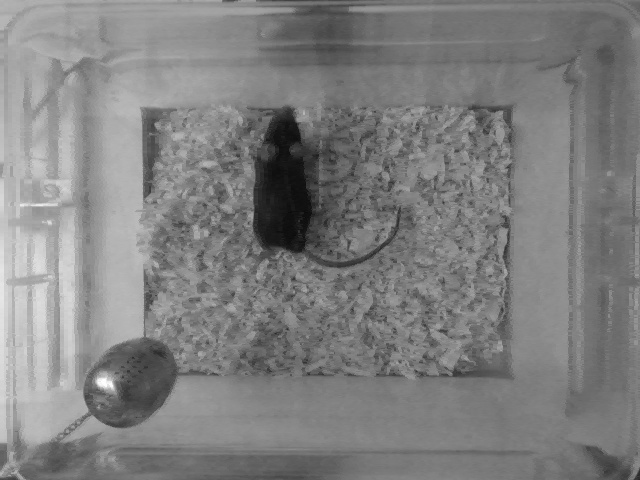mice: (246, 99, 409, 272)
